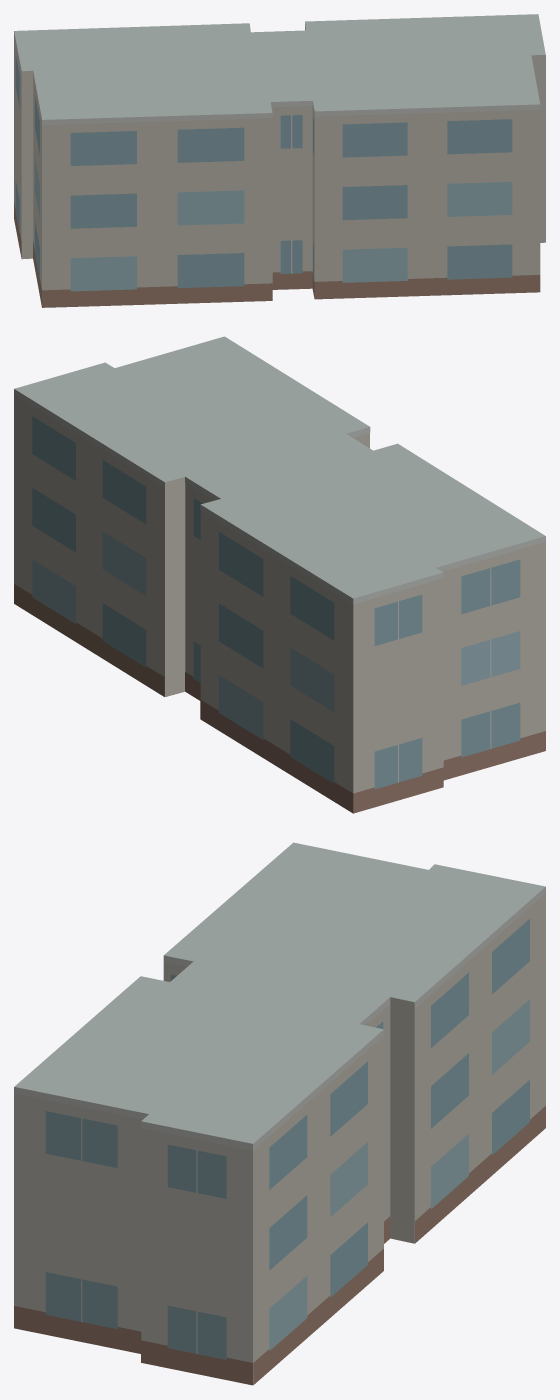
The model's file is survey-upis-32663361.glb.
3 renders of one model, top to bottom at view 1: azimuth 30°, elevation 25°; view 2: azimuth 150°, elevation 25°; view 3: azimuth 270°, elevation 25°, orthographic. The views are drawn at different scales.
Parts seen in each view (by area): view 1: survey-upis-32663361.tmp; view 2: survey-upis-32663361.tmp; view 3: survey-upis-32663361.tmp.
Boxes of the visible parts, x1,y1,x2,y2 form: survey-upis-32663361.tmp: (14, 14, 545, 307); survey-upis-32663361.tmp: (14, 336, 545, 813); survey-upis-32663361.tmp: (14, 842, 545, 1385).
Size of the model in its own units: 24.1 by 9 by 17.97.
